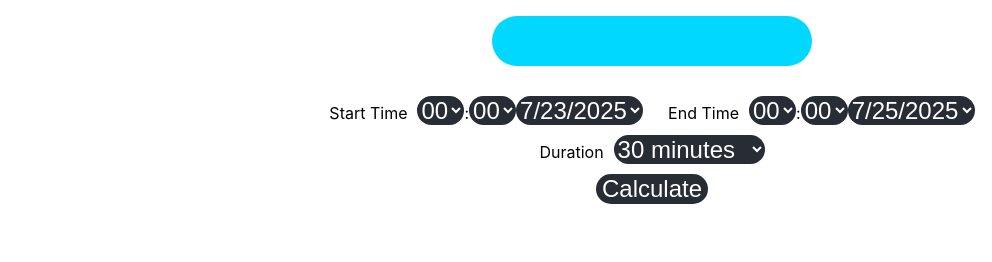
Scenario: displays error when can not get best charge time
Step 1. Select "20:24" in the dropdown labelled "Start Time :" → [441, 110], box [418, 96, 464, 125]
Step 2. Select "23:12" in the dropdown labelled "End Time :" → [772, 110], box [749, 96, 796, 125]
Step 3. Select "60 minutes" in the dropdown labelled "Duration" → [689, 150], box [614, 135, 765, 164]
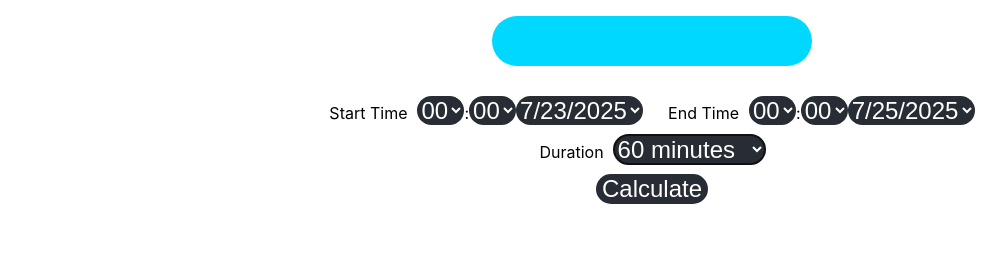
Step 4. Click the button "Calculate" → [652, 189], box [596, 174, 708, 204]
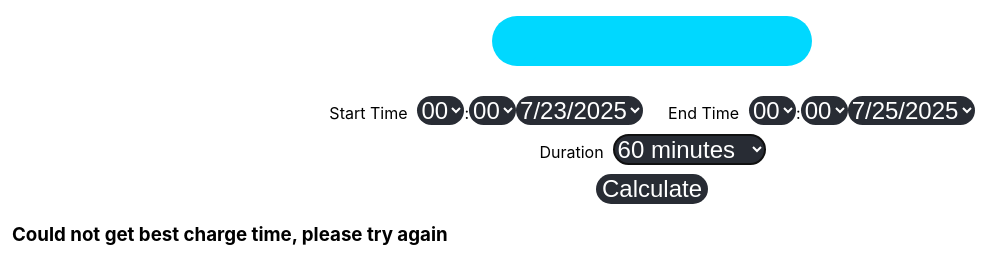
Check: the heading "Could not get best charge time, please try again" is shown, box [12, 223, 448, 246]
